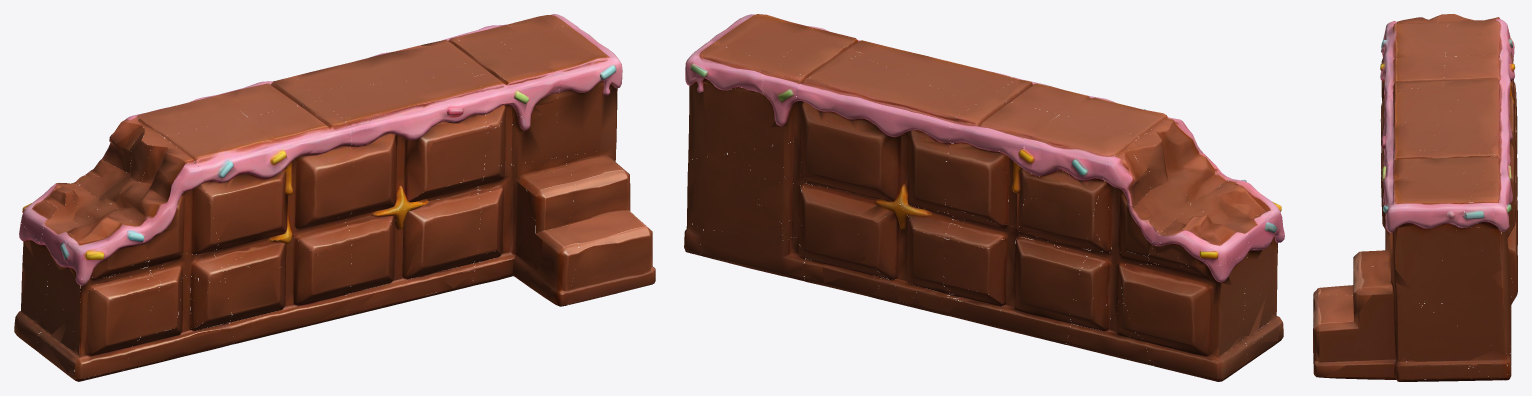
The model's file is ChocolateCover.glb.
3 renders of one model, left to right at view 1: azimuth 30°, elevation 25°; view 2: azimuth 150°, elevation 25°; view 3: azimuth 270°, elevation 25°, orthographic. The views are drawn at different scales.
Visible parts, largest first — view 1: ChocolateCover_Body; view 2: ChocolateCover_Body; view 3: ChocolateCover_Body.
Boxes of the visible parts, left/top/right/bottom form: ChocolateCover_Body: left=14, top=14, right=655, bottom=381; ChocolateCover_Body: left=684, top=14, right=1284, bottom=381; ChocolateCover_Body: left=1313, top=14, right=1517, bottom=381.
Bounding box in the file's own units: 0.9802 × 0.3411 × 0.3553.
Materials: 1 (1 with a texture image).
